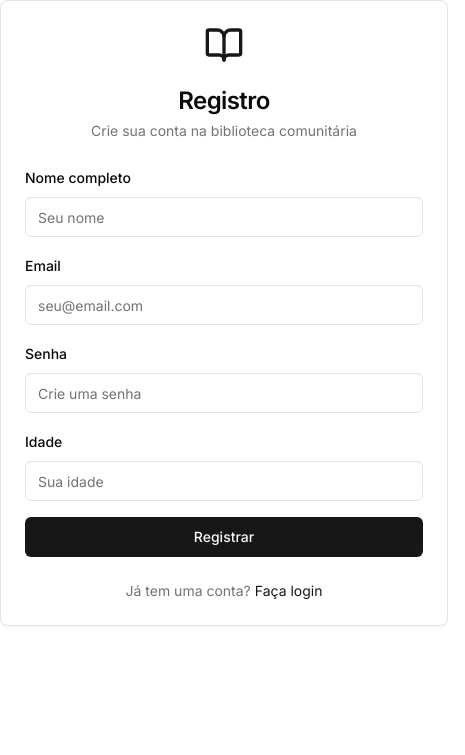
Test: RegisterForm › deve mostrar erro para campos obrigatórios vazios
This screenshot has width=465, height=755.
Click the button "Registrar".
click(224, 537)  # box [25,517,423,557]
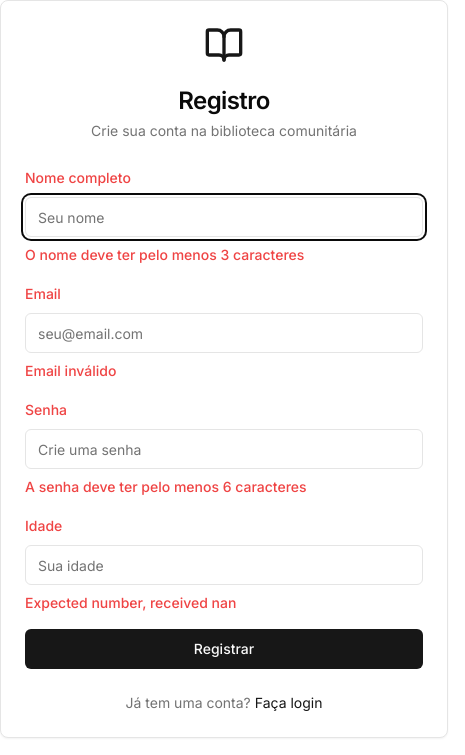
Check: the text "O nome deve ter pelo menos 3 caracteres" is shown, box [25,246,304,263]
Check: the text "Email inválido" is shown, box [25,362,116,379]
Check: the text "A senha deve ter pelo menos 6 caracteres" is shown, box [25,478,307,495]
